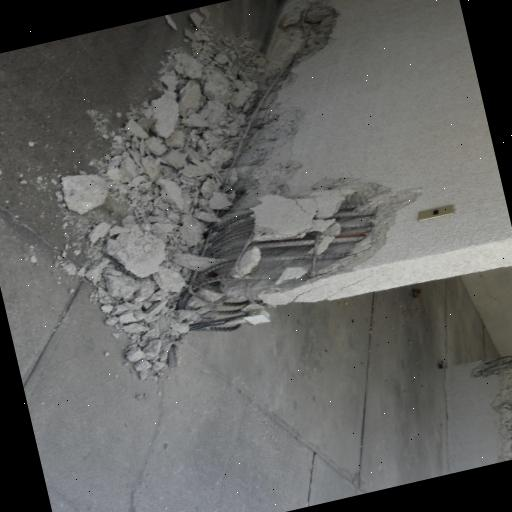spalling: (166, 0, 416, 328), (471, 354, 512, 463)
